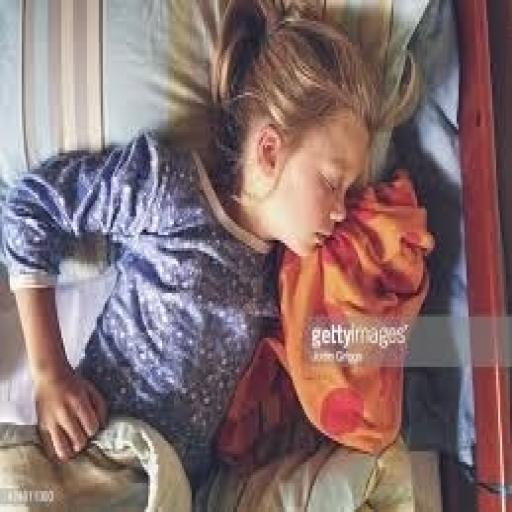sleeping: (0, 0, 431, 509)
